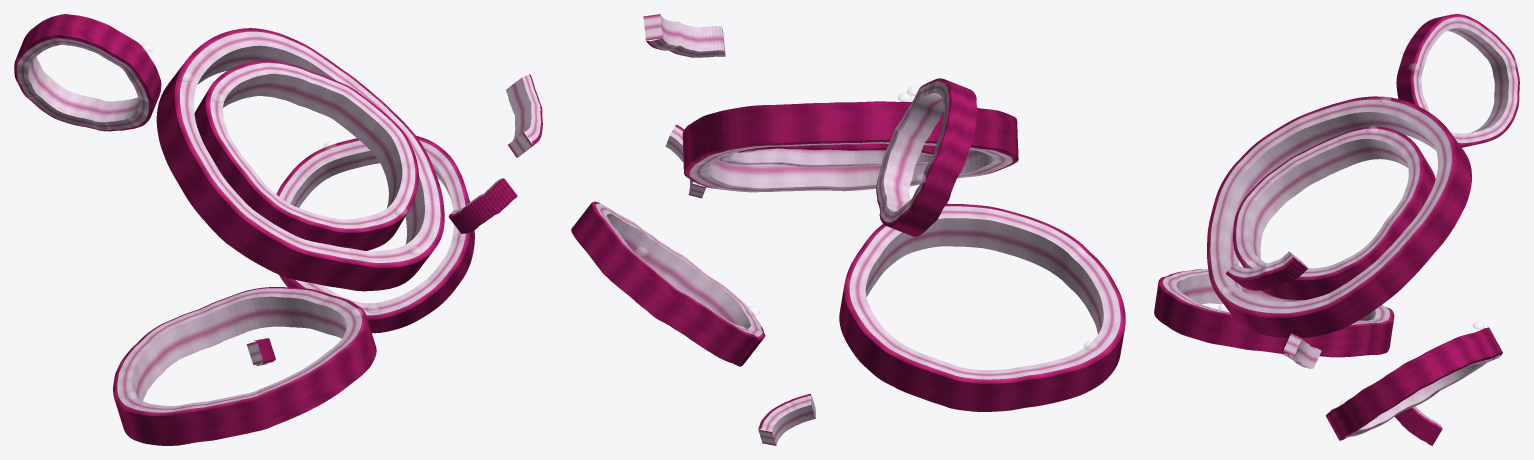
Rendered from red-onion-rings.glb.
3 renders of one model, left to right at view 1: azimuth 30°, elevation 25°; view 2: azimuth 150°, elevation 25°; view 3: azimuth 270°, elevation 25°, orthographic. The views are drawn at different scales.
Parts seen in each view (by area): view 1: red-onion-layers, red-onion-epidermis, object 3; view 2: red-onion-layers, red-onion-epidermis, object 3; view 3: red-onion-epidermis, red-onion-layers, object 3.
Boxes of the visible parts, left/top/right/bottom form: red-onion-layers: left=17, top=31, right=540, bottom=412; red-onion-epidermis: left=14, top=14, right=542, bottom=445; object 3: left=125, top=43, right=421, bottom=400; red-onion-layers: left=596, top=14, right=1120, bottom=445; red-onion-epidermis: left=571, top=40, right=1125, bottom=429; object 3: left=634, top=86, right=1097, bottom=350; red-onion-epidermis: left=1154, top=14, right=1519, bottom=445; red-onion-layers: left=1163, top=17, right=1517, bottom=439; object 3: left=1218, top=60, right=1519, bottom=404.
Bounding box in the file's own units: 0.0998 × 0.0875 × 0.0829.
Materials: 3 (2 with a texture image).
